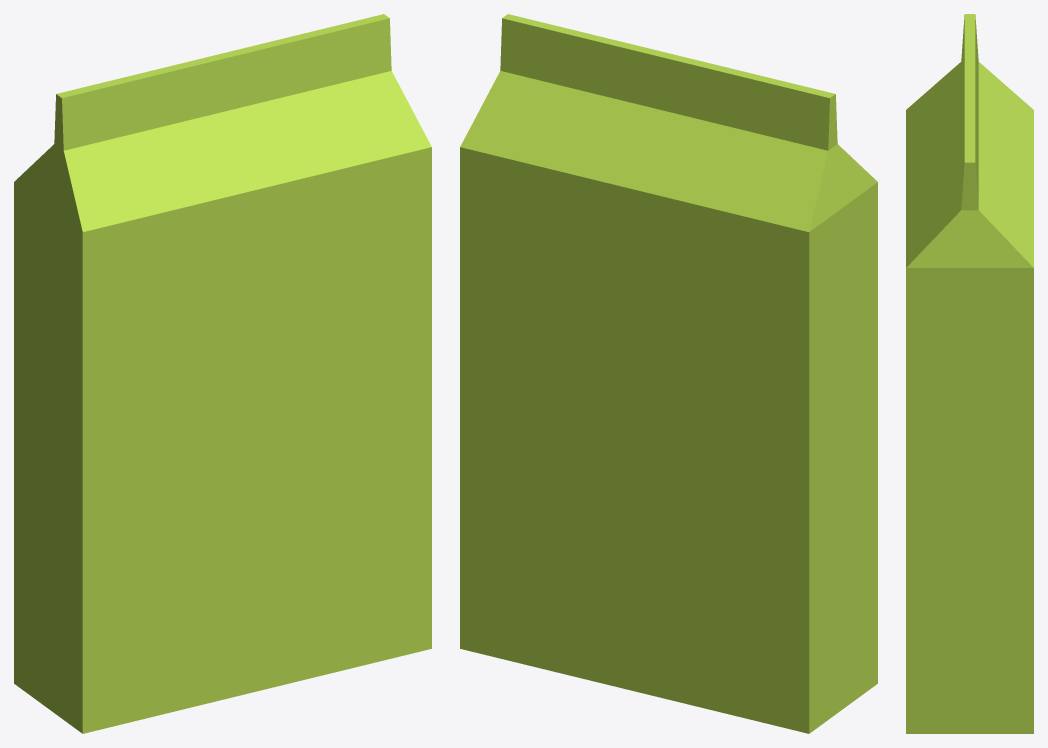
The model's file is flakes_convex.fbx.
3 renders of one model, left to right at view 1: azimuth 30°, elevation 25°; view 2: azimuth 150°, elevation 25°; view 3: azimuth 270°, elevation 25°, orthographic. The views are drawn at different scales.
Parts seen in each view (by area): view 1: flakes_convex, flakes_convex.001; view 2: flakes_convex, flakes_convex.001; view 3: flakes_convex, flakes_convex.001.
Part boxes in pixels (box(x1,y1,x2,y2)): flakes_convex: box(14, 71, 431, 733); flakes_convex.001: box(54, 14, 391, 150); flakes_convex: box(460, 71, 877, 733); flakes_convex.001: box(500, 14, 837, 150); flakes_convex: box(906, 62, 1033, 733); flakes_convex.001: box(961, 14, 978, 210).
Size of the model in its own units: 5.51 by 1.88 by 9.2.
